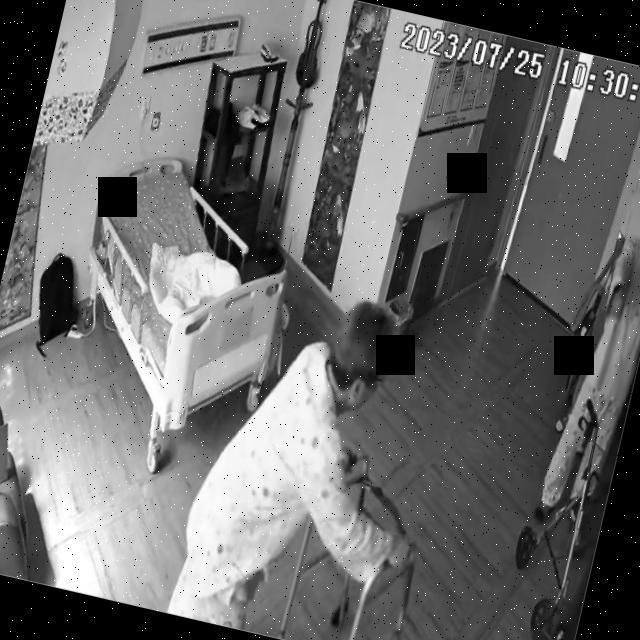bed: (49, 150, 308, 455)
patient: (165, 274, 458, 640), (532, 172, 640, 533)
stand: (165, 277, 458, 640), (534, 172, 640, 535)
walker: (495, 387, 629, 640), (277, 443, 440, 640)
